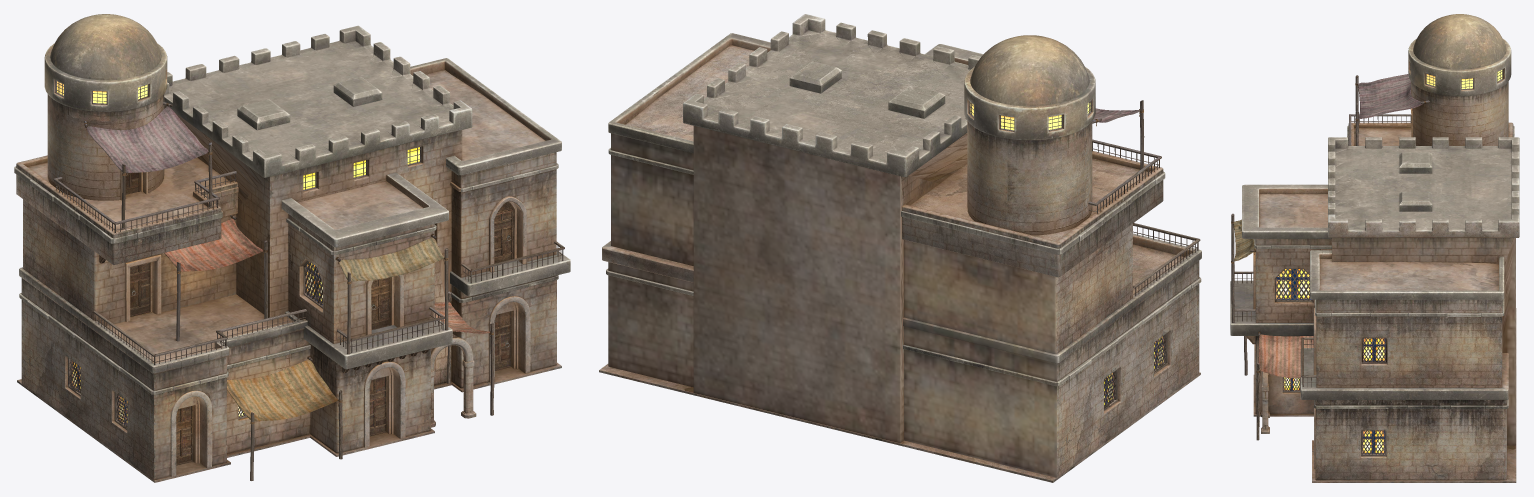
The model's file is xi_dep_port_building.gltf.
3 renders of one model, left to right at view 1: azimuth 30°, elevation 25°; view 2: azimuth 150°, elevation 25°; view 3: azimuth 270°, elevation 25°, orthographic. The views are drawn at different scales.
Parts seen in each view (by area): view 1: xi_dep_port_building; view 2: xi_dep_port_building; view 3: xi_dep_port_building.
Part boxes in pixels (x1,y1,x2,y2): xi_dep_port_building: (14,14,570,482); xi_dep_port_building: (599,14,1201,482); xi_dep_port_building: (1230,14,1519,482).
Bounding box in the file's own units: 17.1 × 14.12 × 11.8.
Materials: 4 (4 with a texture image).
